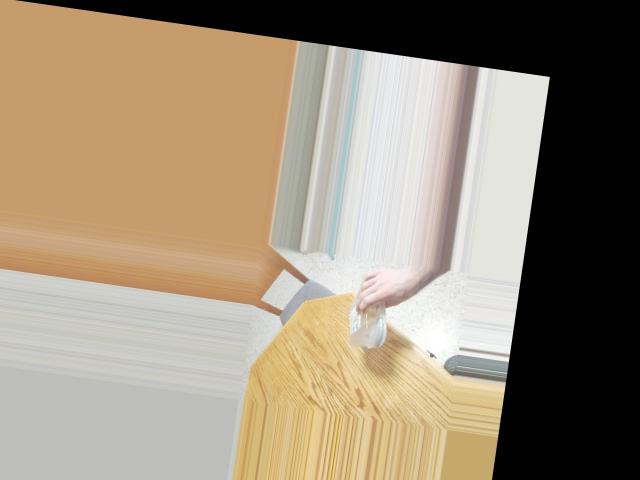cheese: (342, 278, 399, 343)
